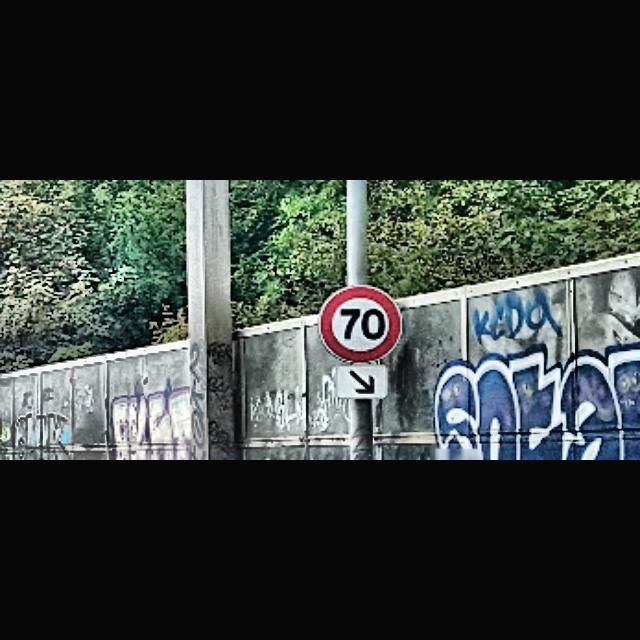speed_70: (316, 282, 404, 364)
